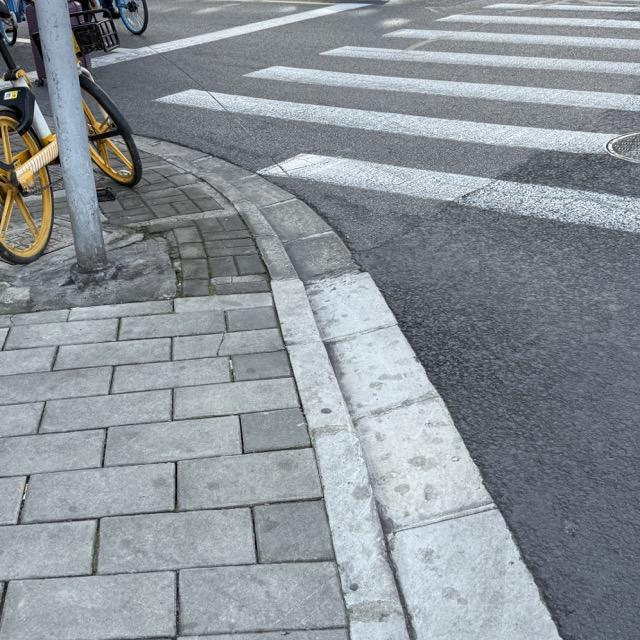curb: (155, 149, 409, 639)
